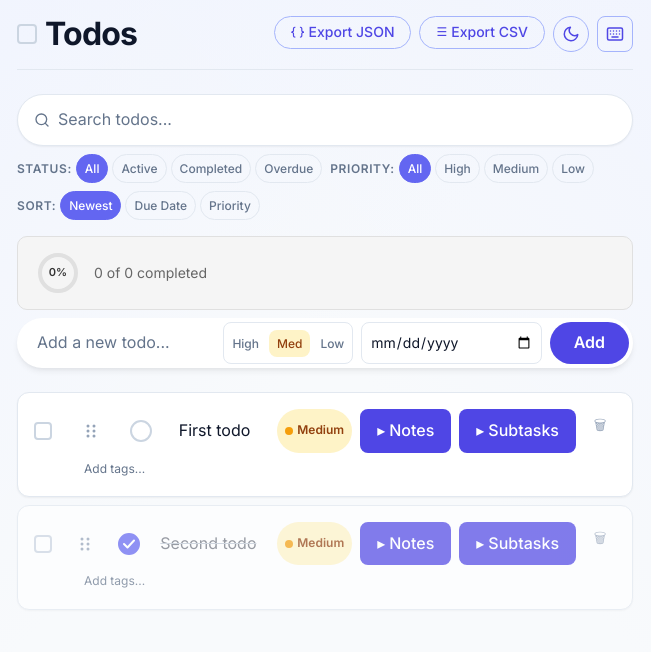
Test: TodoList › shows error when add fails
expect the button "First todo" is shown: met, box [179,418,250,444]
Type "Fail todo" into the field with placeholder "Add a new todo...".
click(118, 343); type("Fail todo")  # box [21,322,215,364]
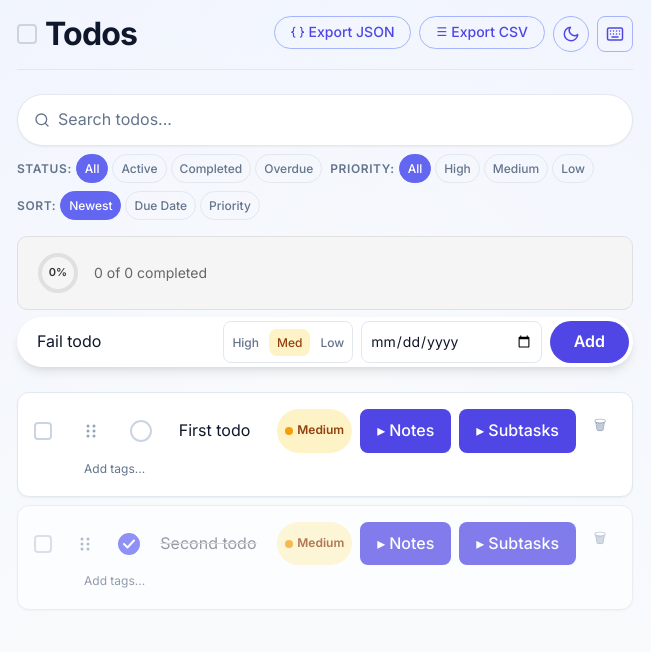
Click the button "Add".
click(589, 342)  # box [550,321,629,363]
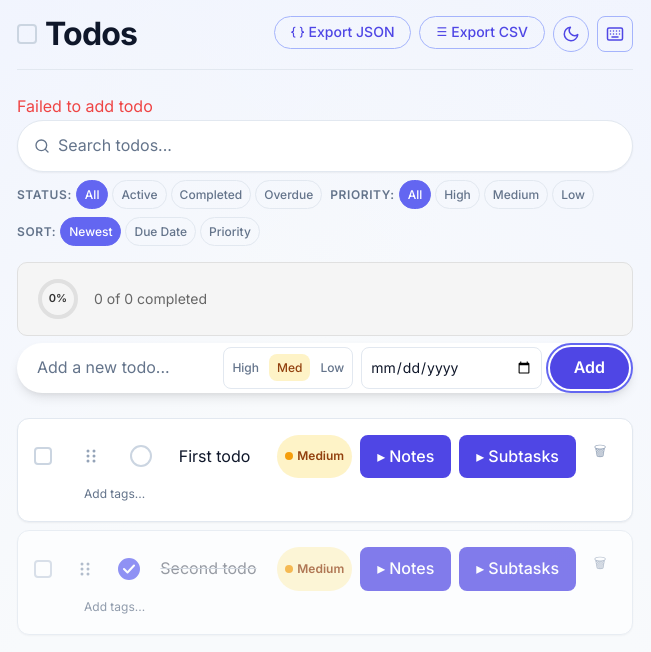
expect the text "Failed to add todo" is shown: met, box [17,96,153,116]
